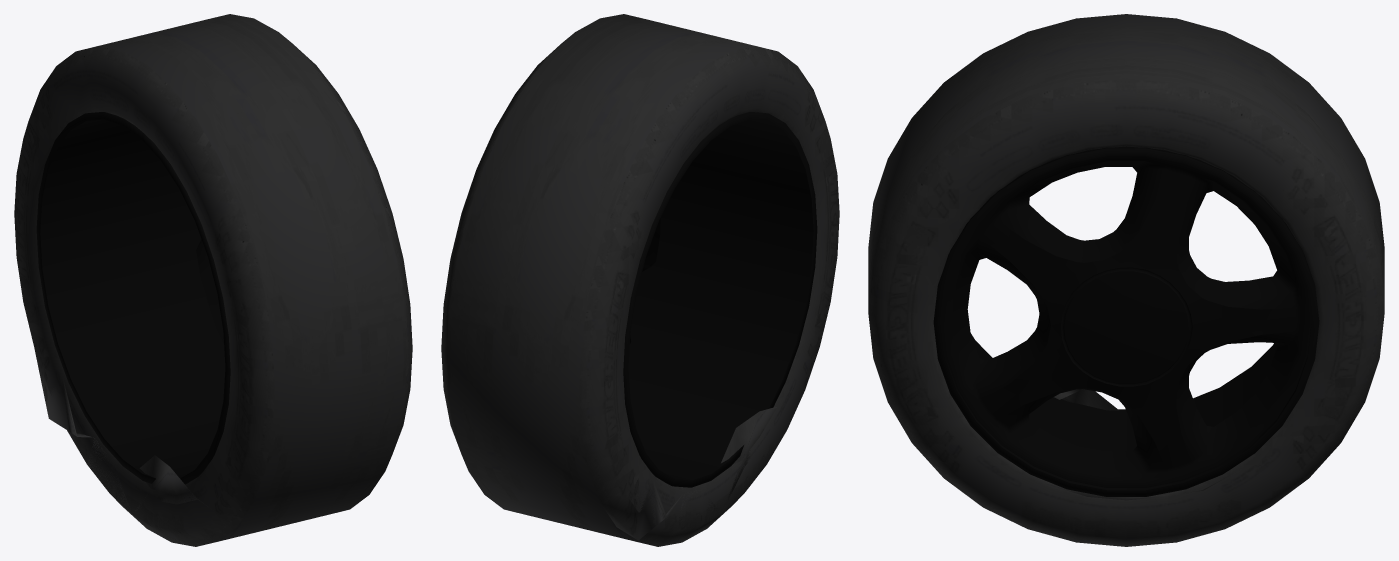
Rendered from tires.fbx.
3 views of the same model, side by side, from view 1: azimuth 30°, elevation 25°; view 2: azimuth 150°, elevation 25°; view 3: azimuth 270°, elevation 25° (orthographic).
Parts seen in each view (by area): view 1: Object_245.002, wheel, fLAT TIRE; view 2: Object_245.002, wheel, fLAT TIRE; view 3: Object_245.002, wheel, fLAT TIRE.
Boxes of the visible parts, x1,y1,x2,y2 form: Object_245.002: [14, 14, 412, 546]; wheel: [36, 112, 230, 484]; fLAT TIRE: [34, 348, 208, 512]; Object_245.002: [441, 14, 839, 546]; wheel: [623, 112, 817, 487]; fLAT TIRE: [601, 392, 801, 540]; Object_245.002: [868, 14, 1384, 546]; wheel: [933, 146, 1319, 496]; fLAT TIRE: [1016, 389, 1229, 500].
Bounding box in the file's own units: 22.17 × 54.57 × 54.57.
Materials: 2 (1 with a texture image).
